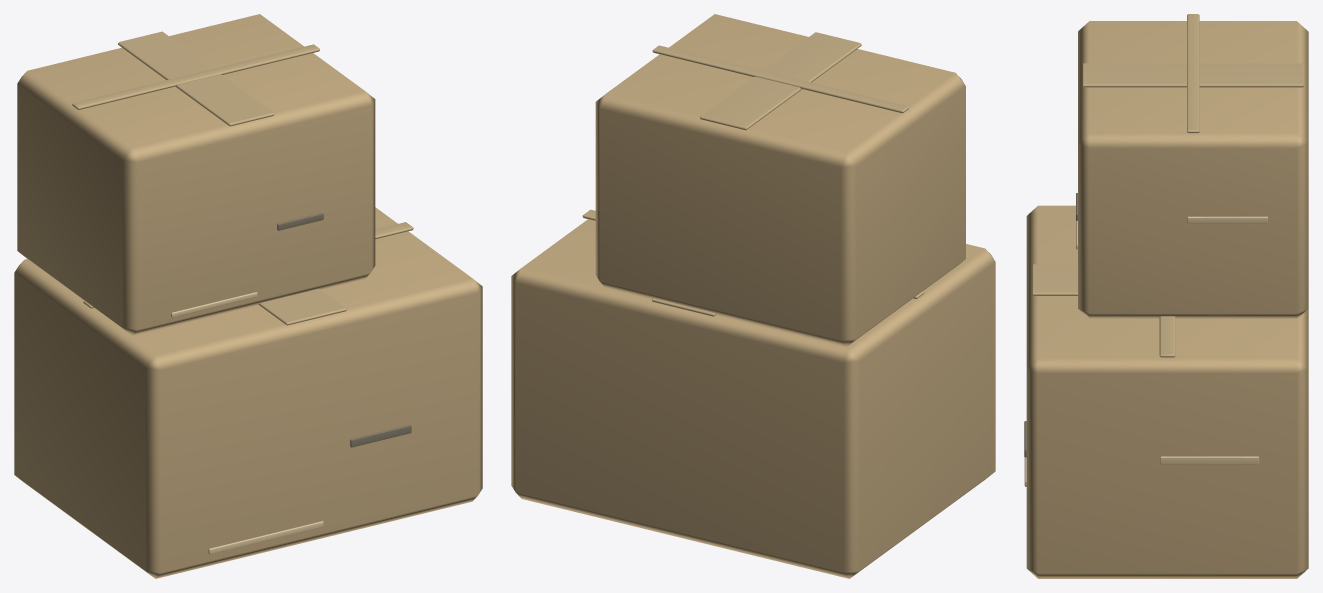
The model's file is Box_Stack_2_A.glb.
The picture shows the model from 3 angles, left to right: view 1: azimuth 30°, elevation 25°; view 2: azimuth 150°, elevation 25°; view 3: azimuth 270°, elevation 25°; orthographic projection. The views are drawn at different scales.
Visible parts, largest first — view 1: Box_Stack_2_A_bottom_body, Box_Stack_2_A_top_body, Box_Stack_2_A_top_top_tape_long, Box_Stack_2_A_top_top_tape_cross, Box_Stack_2_A_bottom_top_tape_long, Box_Stack_2_A_bottom_front_bottom_wear; view 2: Box_Stack_2_A_bottom_body, Box_Stack_2_A_top_body, Box_Stack_2_A_top_top_tape_long, Box_Stack_2_A_top_top_tape_cross; view 3: Box_Stack_2_A_bottom_body, Box_Stack_2_A_top_body, Box_Stack_2_A_top_top_tape_long, Box_Stack_2_A_top_top_tape_cross, Box_Stack_2_A_bottom_top_tape_long, Box_Stack_2_A_bottom_side_edge_wear, Box_Stack_2_A_bottom_top_tape_cross, Box_Stack_2_A_top_side_edge_wear.
Part boxes in pixels (box(x1,y1,x2,y2)): Box_Stack_2_A_bottom_body: box(14, 207, 482, 578); Box_Stack_2_A_top_body: box(17, 14, 375, 335); Box_Stack_2_A_top_top_tape_long: box(118, 31, 274, 126); Box_Stack_2_A_top_top_tape_cross: box(72, 44, 319, 110); Box_Stack_2_A_bottom_top_tape_long: box(258, 289, 346, 325); Box_Stack_2_A_bottom_front_bottom_wear: box(208, 521, 323, 554); Box_Stack_2_A_bottom_body: box(511, 219, 995, 578); Box_Stack_2_A_top_body: box(595, 14, 965, 346); Box_Stack_2_A_top_top_tape_long: box(700, 32, 861, 130); Box_Stack_2_A_top_top_tape_cross: box(652, 45, 908, 113); Box_Stack_2_A_bottom_body: box(1026, 205, 1308, 578); Box_Stack_2_A_top_body: box(1078, 21, 1308, 318); Box_Stack_2_A_top_top_tape_long: box(1082, 63, 1303, 87); Box_Stack_2_A_top_top_tape_cross: box(1187, 14, 1199, 133); Box_Stack_2_A_bottom_top_tape_long: box(1032, 264, 1077, 295); Box_Stack_2_A_bottom_side_edge_wear: box(1160, 456, 1259, 464); Box_Stack_2_A_bottom_top_tape_cross: box(1159, 316, 1175, 357); Box_Stack_2_A_top_side_edge_wear: box(1187, 216, 1267, 223).
Size of the model in its own units: 0.6032 by 0.709 by 0.4433.
